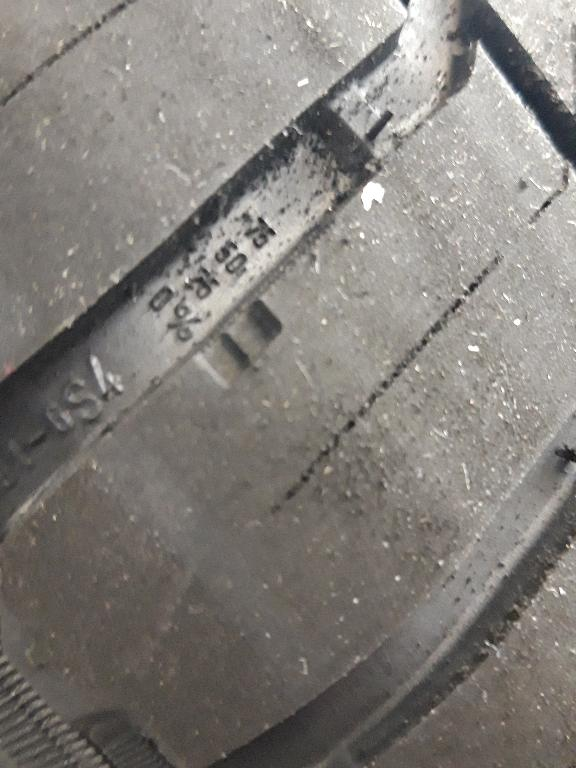temoin:50: (180, 265, 328, 400)
